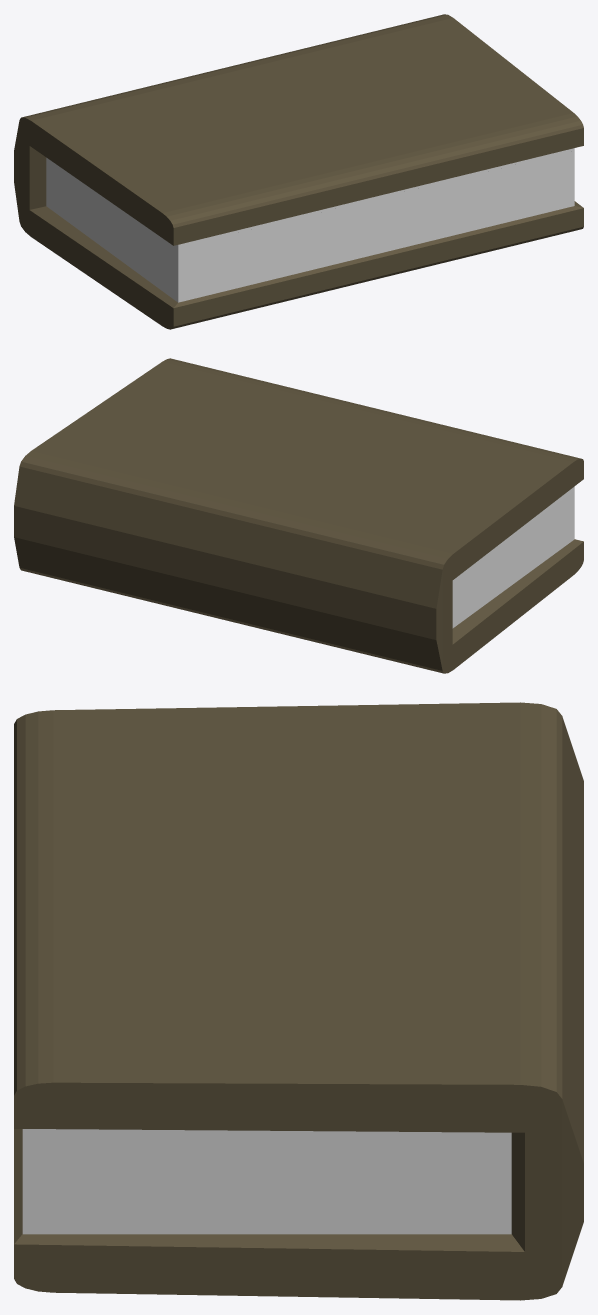
Rendered from book_beige.fbx.
3 views of the same model, one above another, from view 1: azimuth 30°, elevation 25°; view 2: azimuth 150°, elevation 25°; view 3: azimuth 270°, elevation 25° (orthographic). The views are drawn at different scales.
Visible parts, largest first — view 1: Book_beige; view 2: Book_beige; view 3: Book_beige.
Boxes of the visible parts, x1,y1,x2,y2 form: Book_beige: [14, 14, 583, 329]; Book_beige: [14, 358, 583, 673]; Book_beige: [14, 702, 583, 1300].
Bounding box in the file's own units: 65.78 × 17.26 × 41.35.
